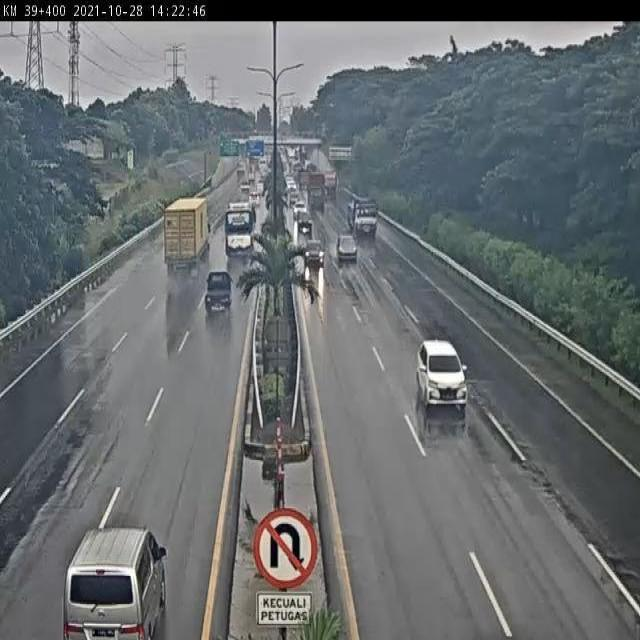Bus: (224, 194, 256, 256)
Car: (303, 237, 325, 269), (336, 235, 359, 261), (297, 210, 314, 232)
Truck: (164, 198, 212, 272), (346, 191, 379, 239), (205, 269, 234, 311), (307, 174, 326, 210)
Van: (57, 526, 171, 640), (415, 338, 470, 410)
